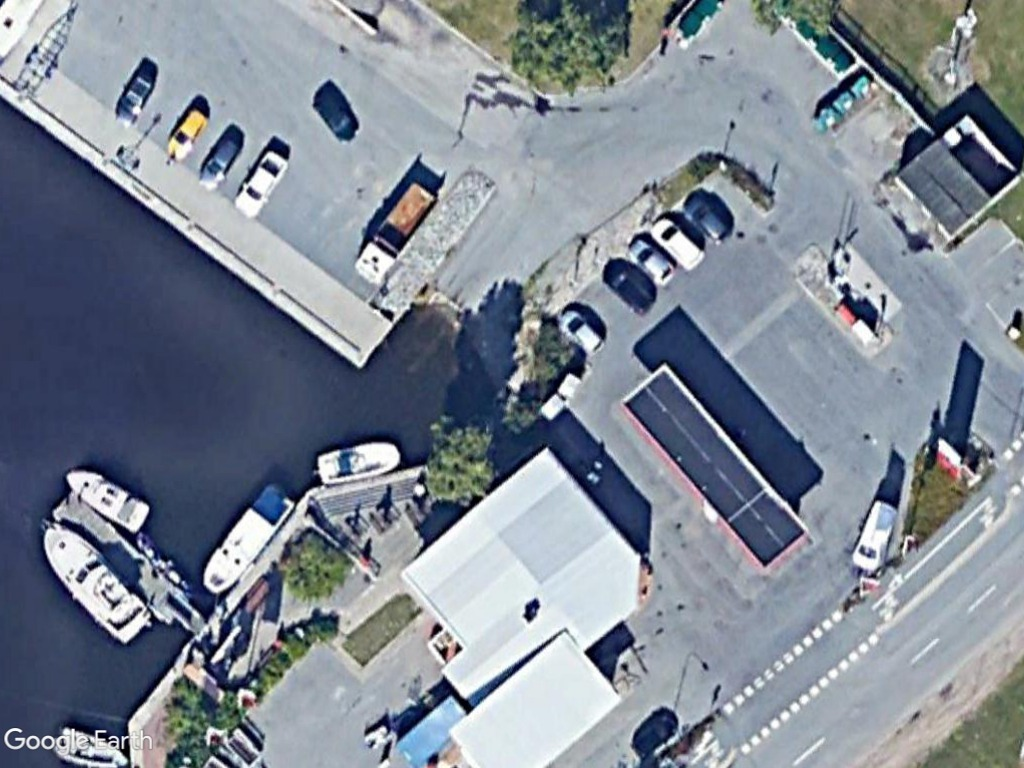boat: (38, 515, 154, 650), (196, 482, 294, 603), (60, 461, 156, 537), (312, 434, 405, 490)
car: (228, 140, 291, 222), (108, 60, 163, 128), (602, 257, 662, 318), (162, 100, 215, 166), (552, 302, 609, 362), (625, 230, 681, 290), (681, 190, 734, 249), (195, 128, 246, 189)
van: (846, 495, 902, 576), (651, 213, 708, 273)
